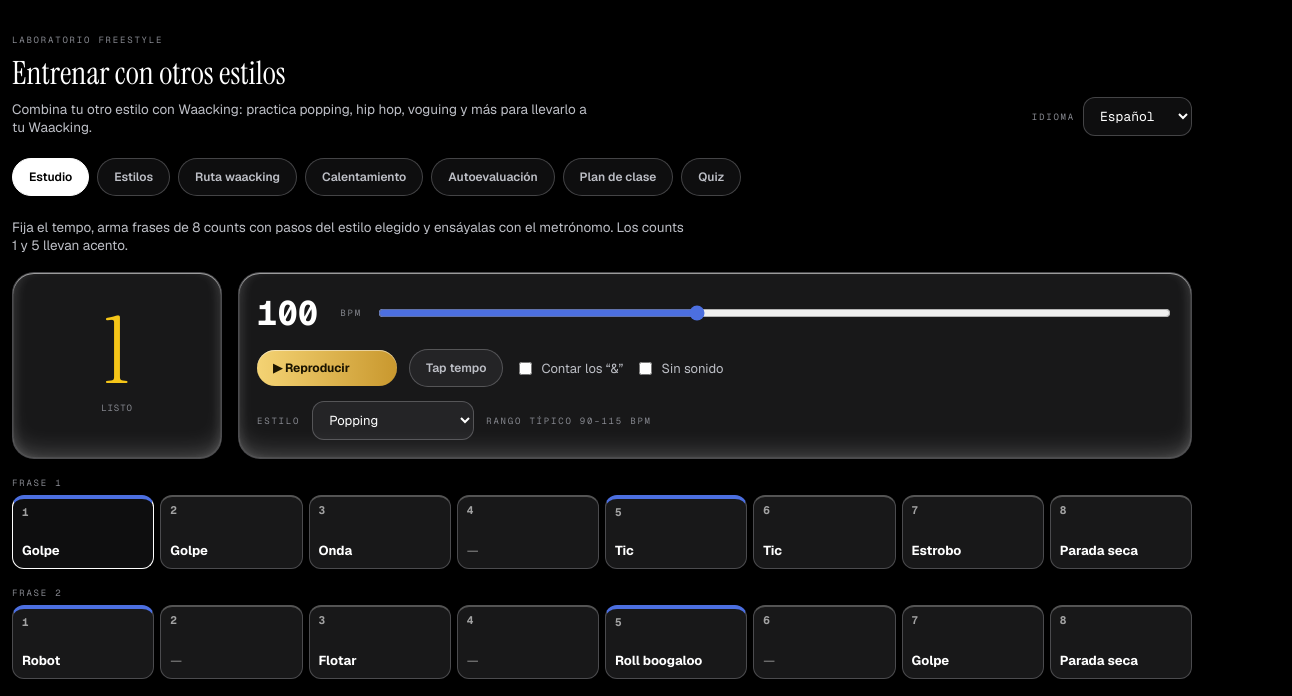
Scenario: Entrenar con otros estilos › el calentamiento muestra 7 ejercicios con enlace a YouTube
The width and height of the screenshot is (1292, 696).
Click the tab "Calentamiento": (364, 177) [305, 158, 423, 196]
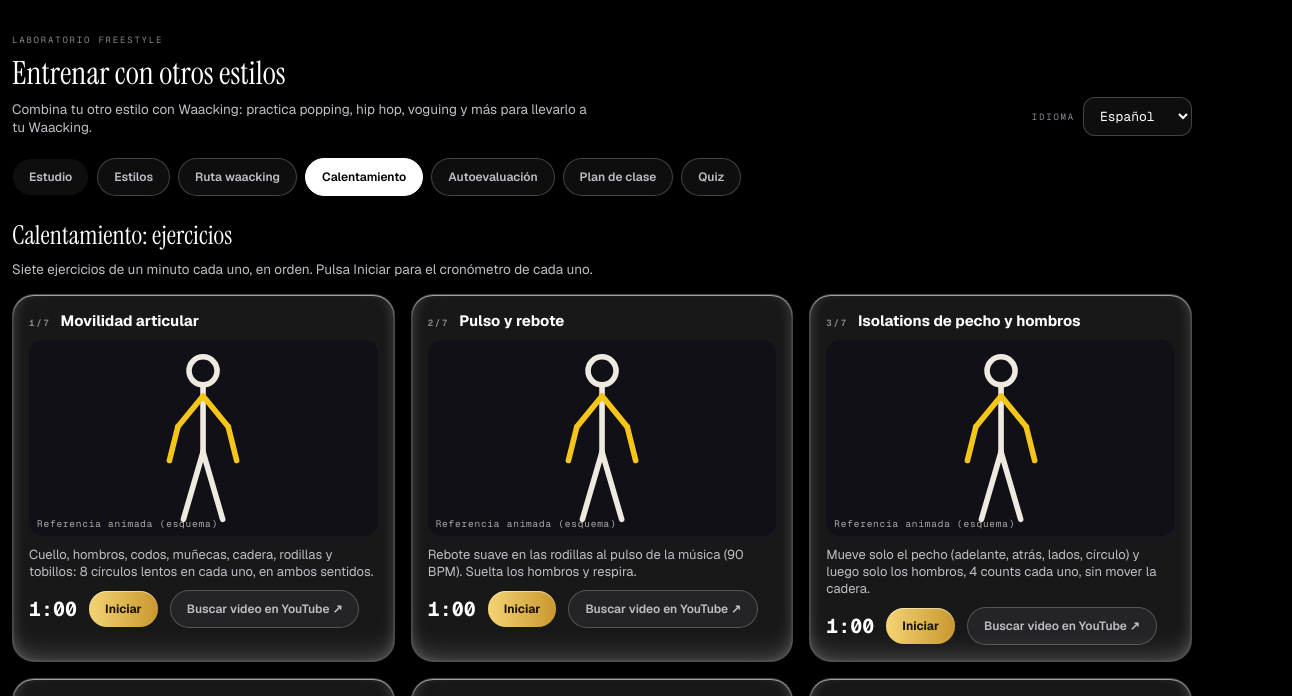
Now the number of links "Buscar video en YouTube ↗" is 7
